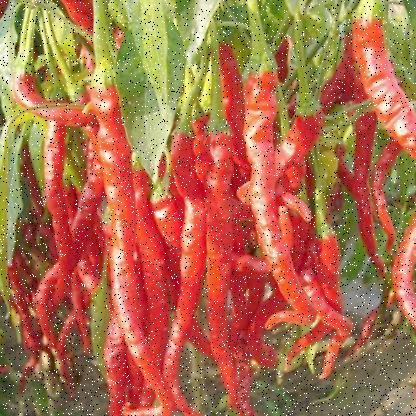chilli: (77, 76, 184, 416), (243, 72, 318, 328), (208, 123, 246, 412), (37, 108, 82, 308), (345, 111, 395, 280)
